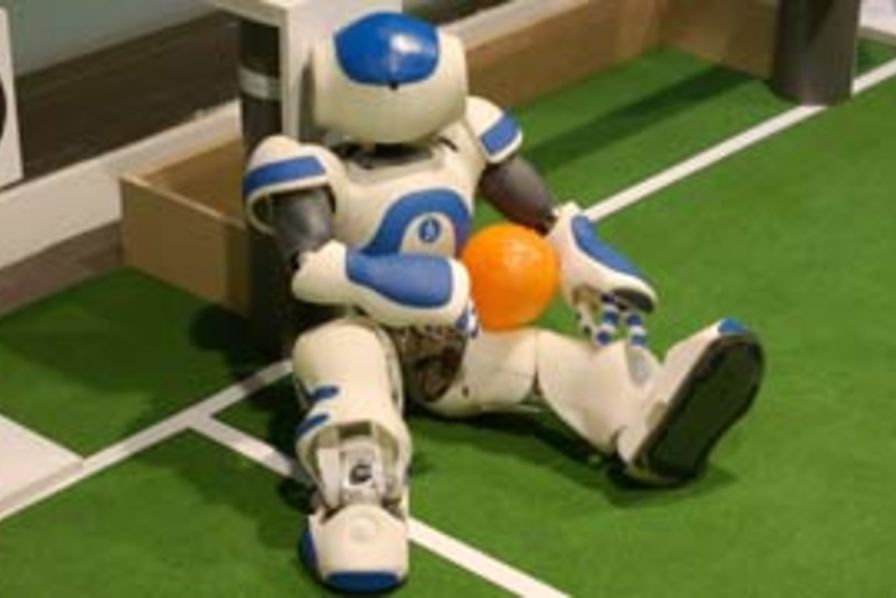nao: (224, 3, 783, 595)
